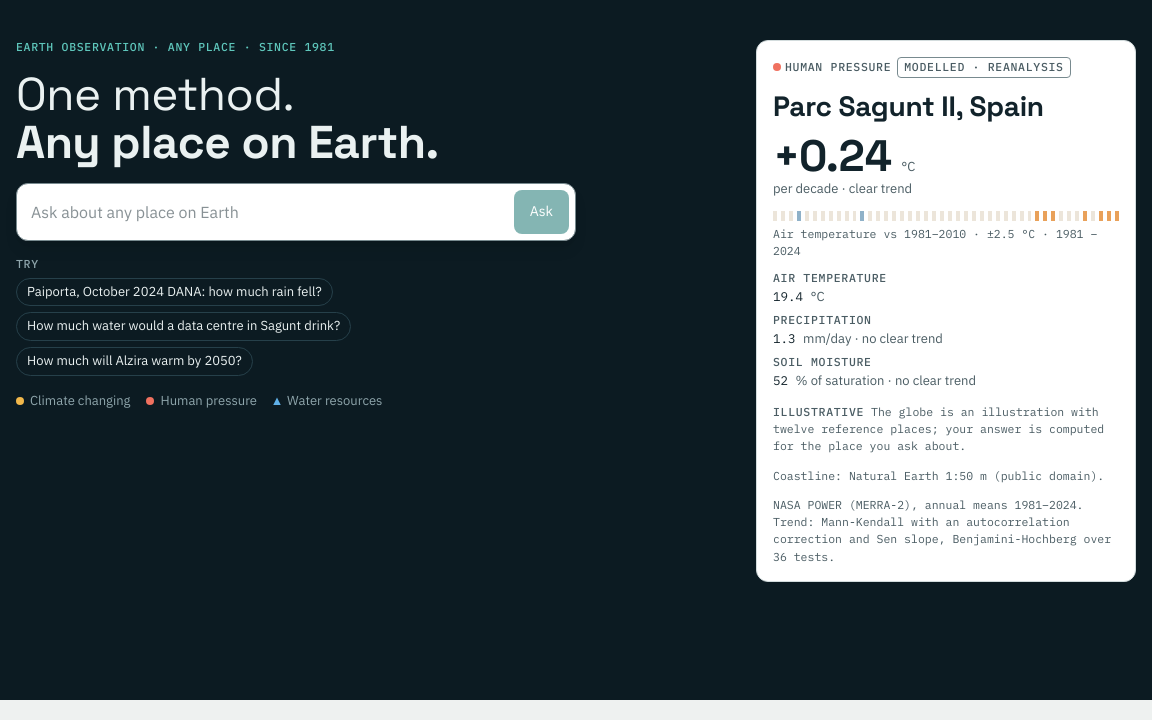
it: a clarification without candidates is a question, not an error
Type "What changed?" into the search field named "Your question".
click(264, 212); type("What changed?")  # box [23, 190, 506, 234]
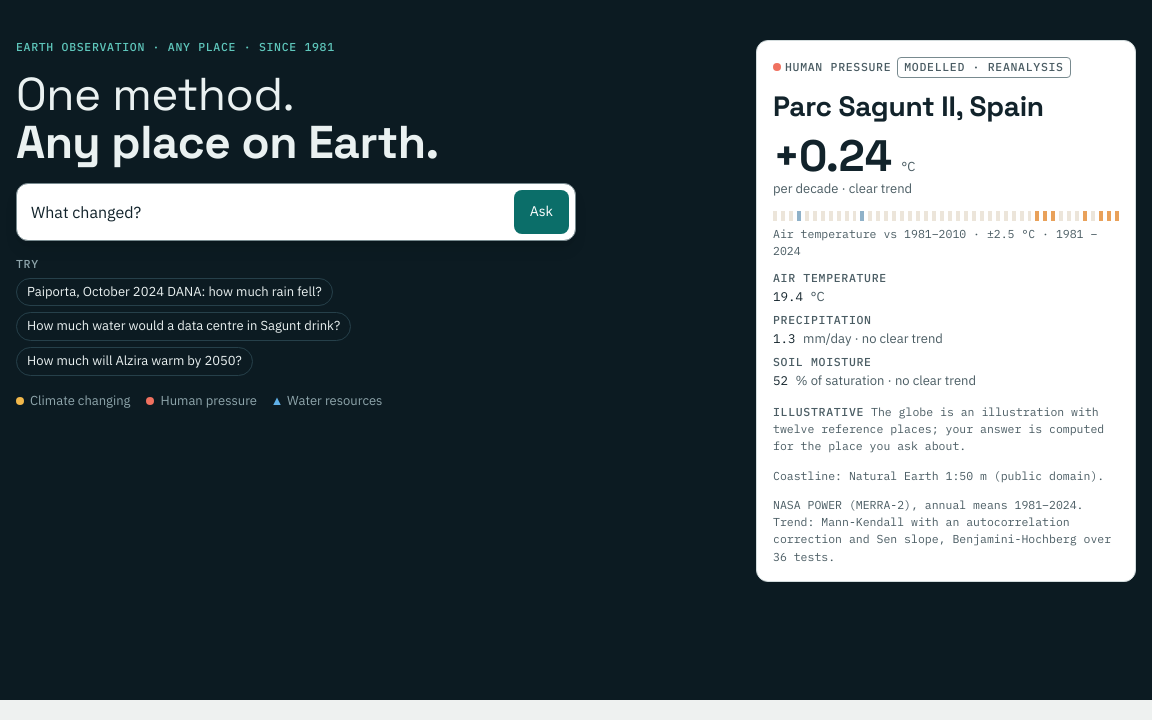
Click the button "Ask".
click(541, 212)  # box [514, 190, 569, 234]
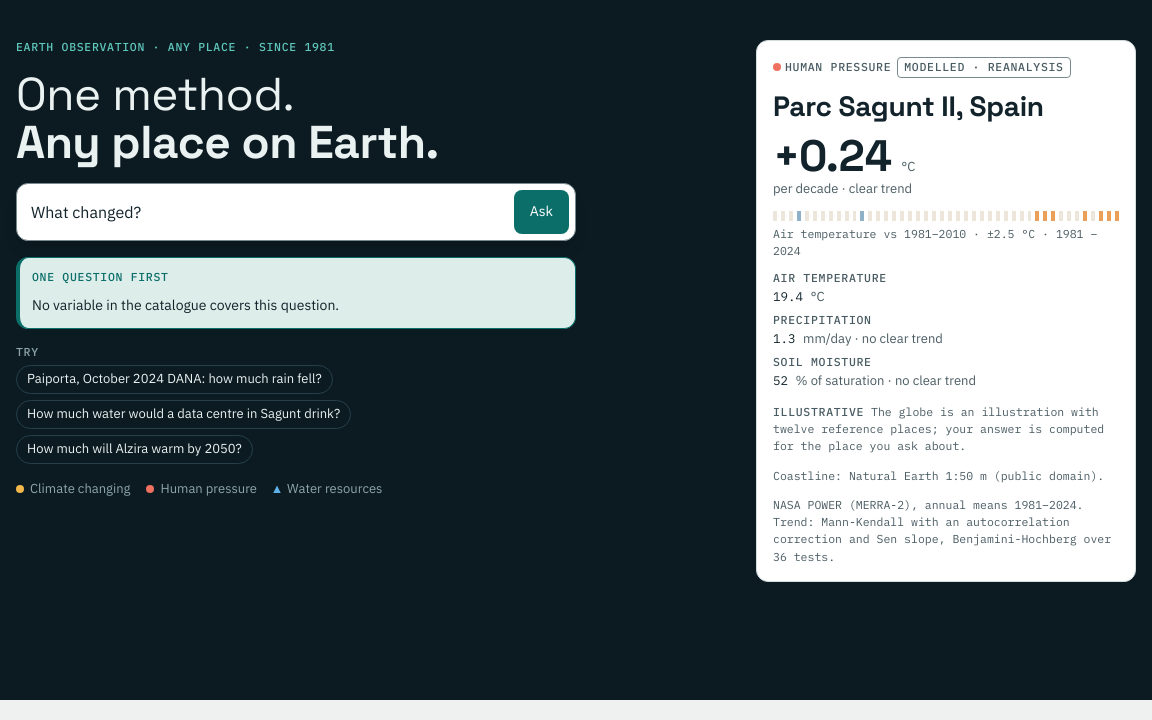
Check: the text "No variable in the catalogue covers this question." is shown, box [32, 296, 339, 314]
